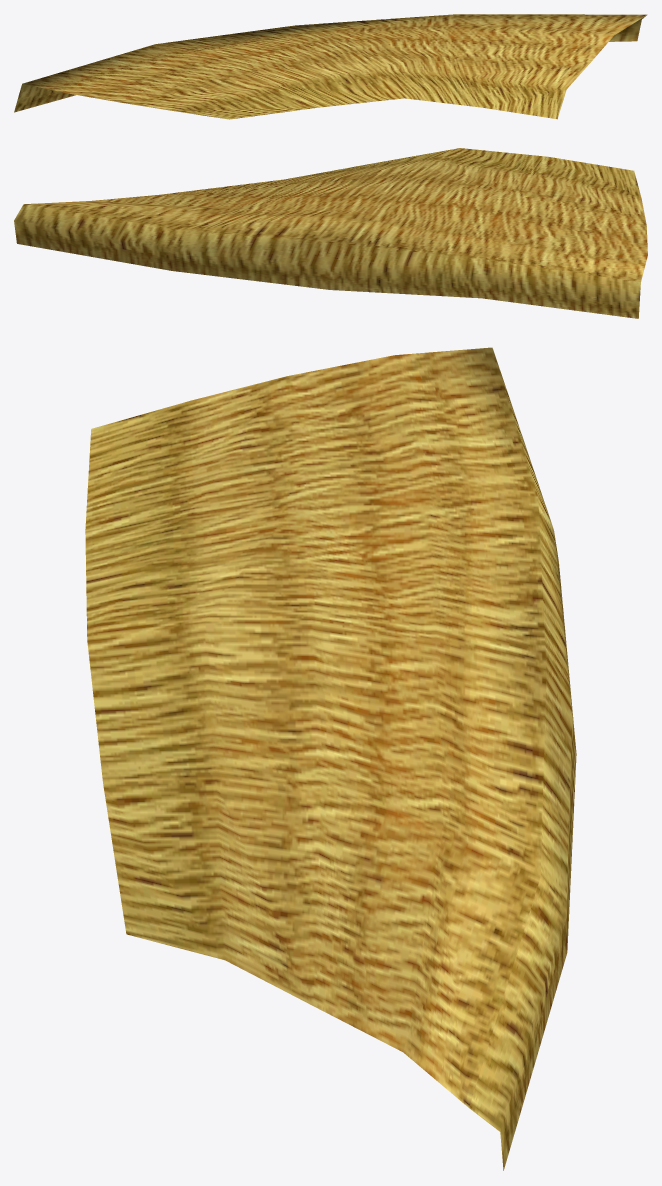
File: HTOWN01_BAGROW3AWNING.fbx
3 renders of one model, top to bottom at view 1: azimuth 30°, elevation 25°; view 2: azimuth 150°, elevation 25°; view 3: azimuth 270°, elevation 25°, orthographic. The views are drawn at different scales.
Parts seen in each view (by area): view 1: HTOWN01_BAGROW3AWNING; view 2: HTOWN01_BAGROW3AWNING; view 3: HTOWN01_BAGROW3AWNING.
Boxes of the visible parts, x1,y1,x2,y2 form: HTOWN01_BAGROW3AWNING: (14, 14, 647, 119); HTOWN01_BAGROW3AWNING: (14, 148, 647, 318); HTOWN01_BAGROW3AWNING: (85, 347, 576, 1170).
Bounding box in the file's own units: 72937 × 13603 × 24829.
2 materials, 2 textured.
